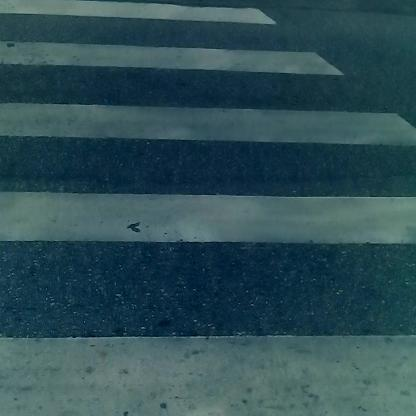crosswalk: (2, 20, 389, 416)
